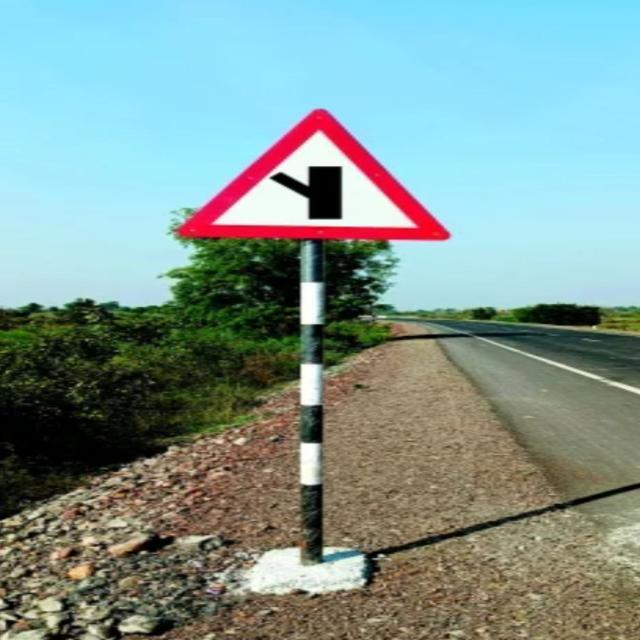y intersection: (179, 106, 451, 242)
